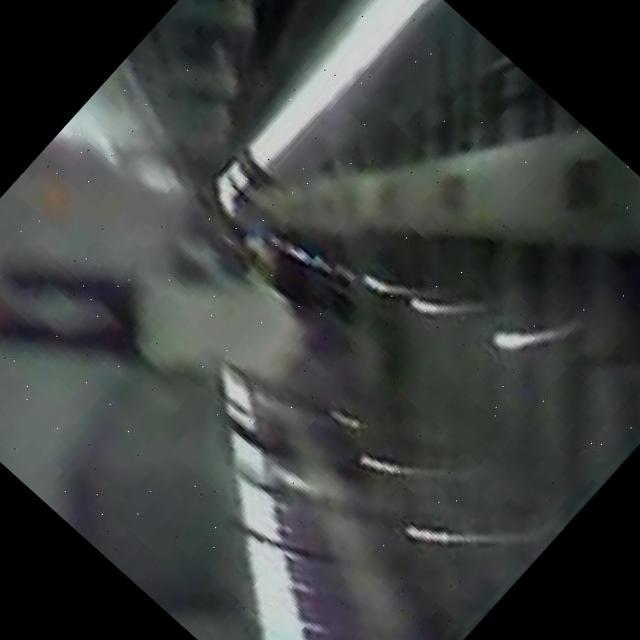person: (0, 128, 353, 503)
